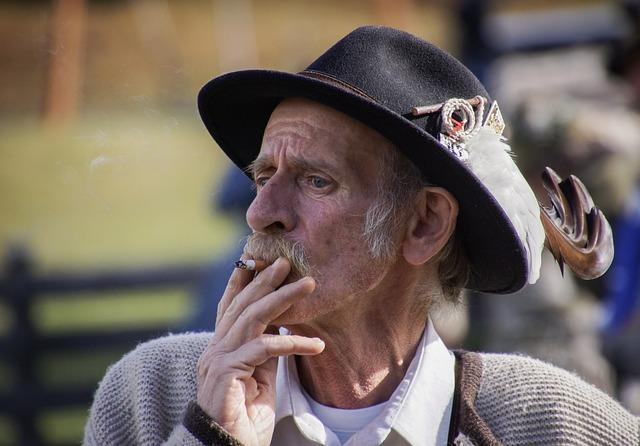smoker: (167, 28, 571, 444)
